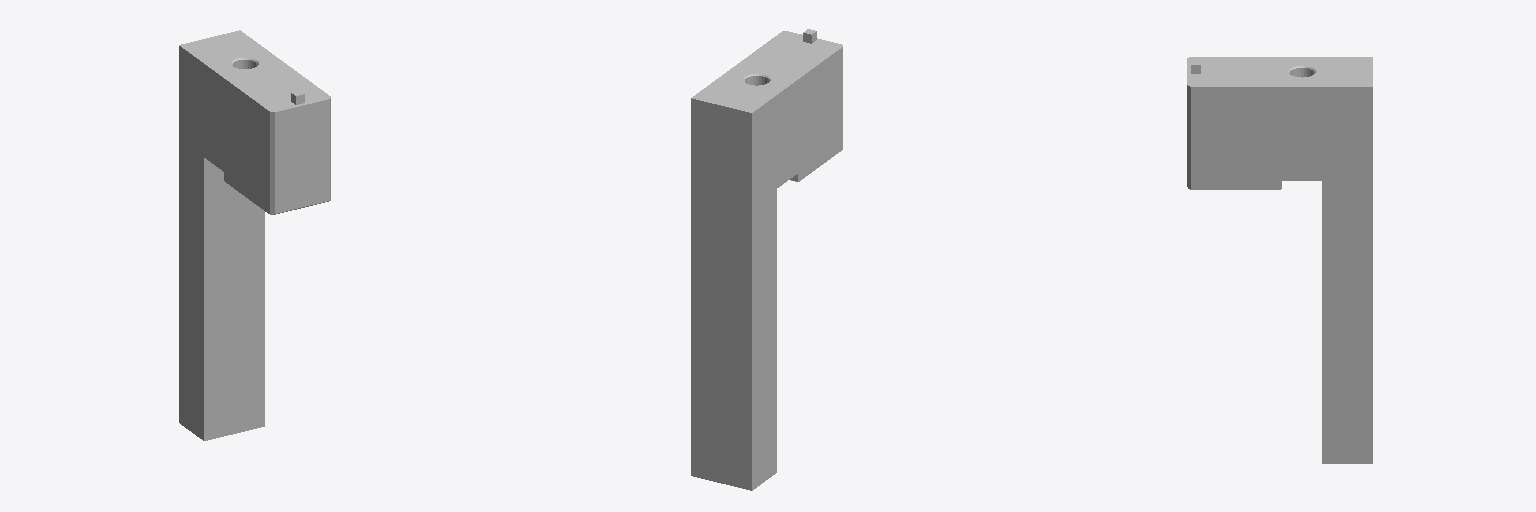
File: Gripper2F1.obj
3 renders of one model, left to right at view 1: azimuth 30°, elevation 25°; view 2: azimuth 150°, elevation 25°; view 3: azimuth 270°, elevation 25°, orthographic.
Size of the model in its own units: 0.007 by 0.0422 by 0.0184.